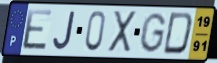0: (85, 10, 107, 54)
D: (161, 11, 195, 56)
E: (21, 7, 54, 52)
G: (138, 11, 168, 55)
J: (52, 10, 77, 51)
X: (107, 10, 138, 55)
